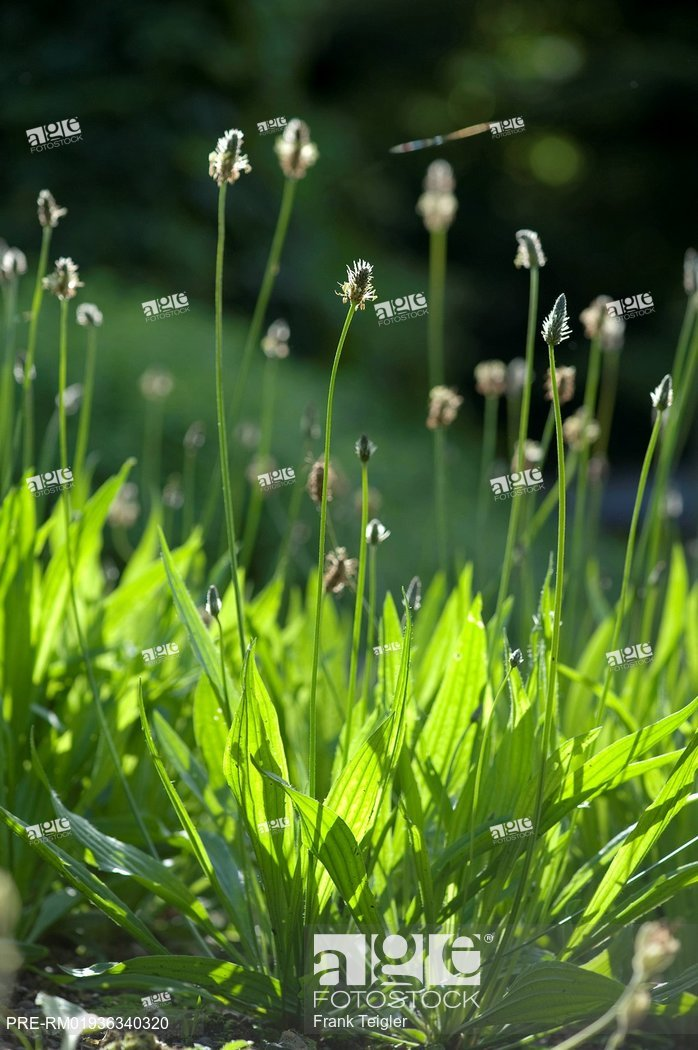buckhorn plantain: (13, 110, 698, 983)
